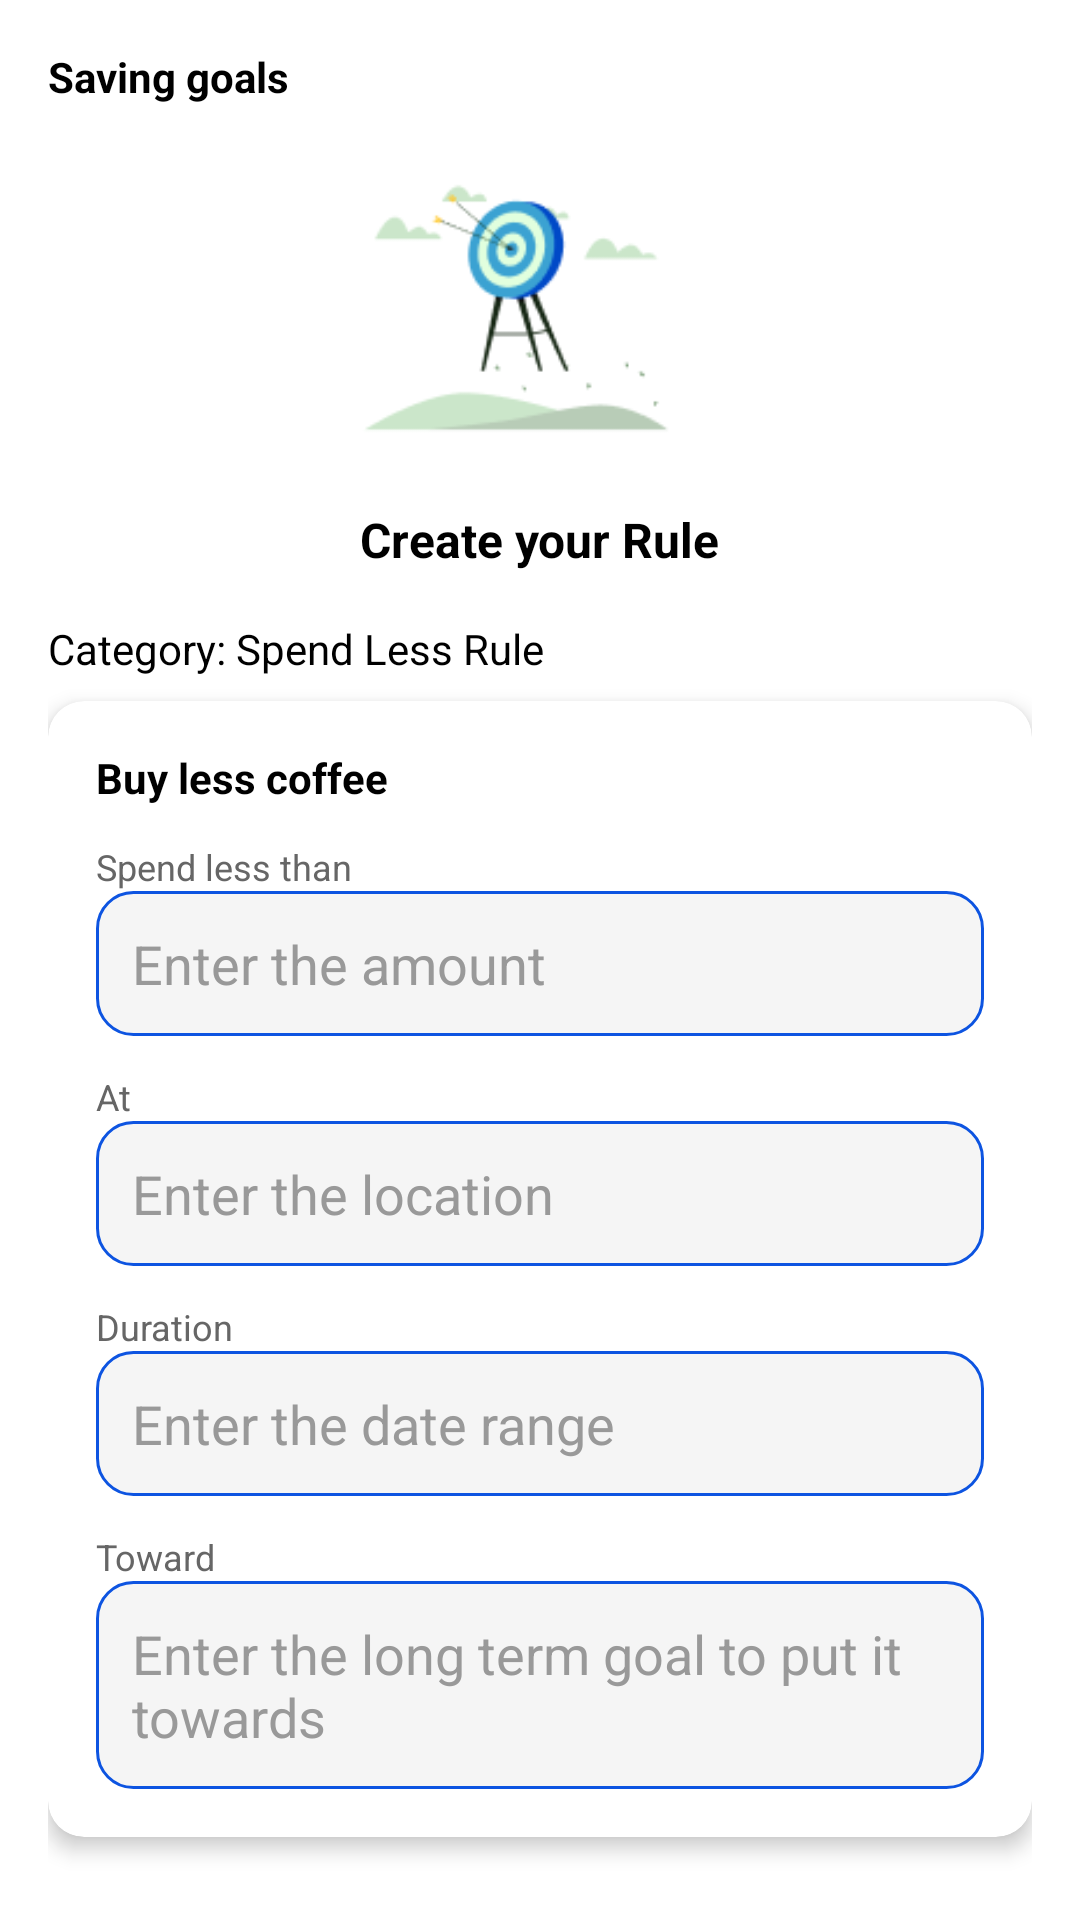

Named icons in this screenshot (1080 × 1920) and their bounding boxes, detection(x1, y1, x2, y2):
Savings goal illustration: detection(367, 186, 666, 430)
